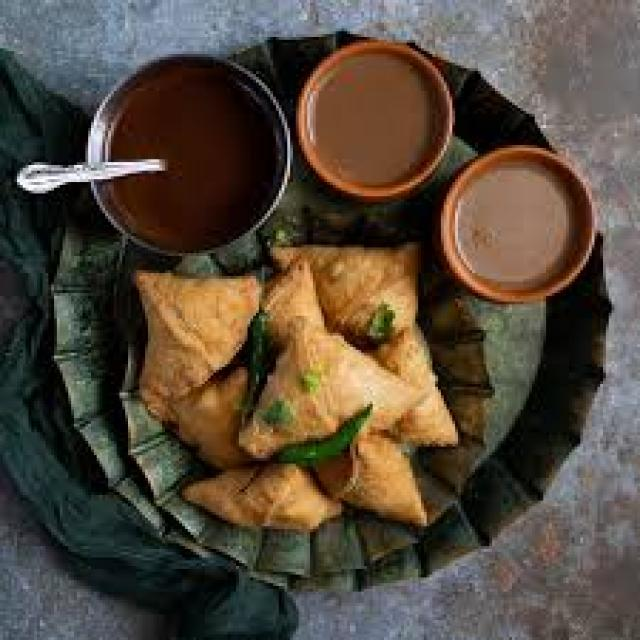SAMOSA: (273, 245, 452, 444), (239, 262, 415, 455), (137, 270, 262, 461), (182, 464, 338, 529), (313, 432, 424, 521)
